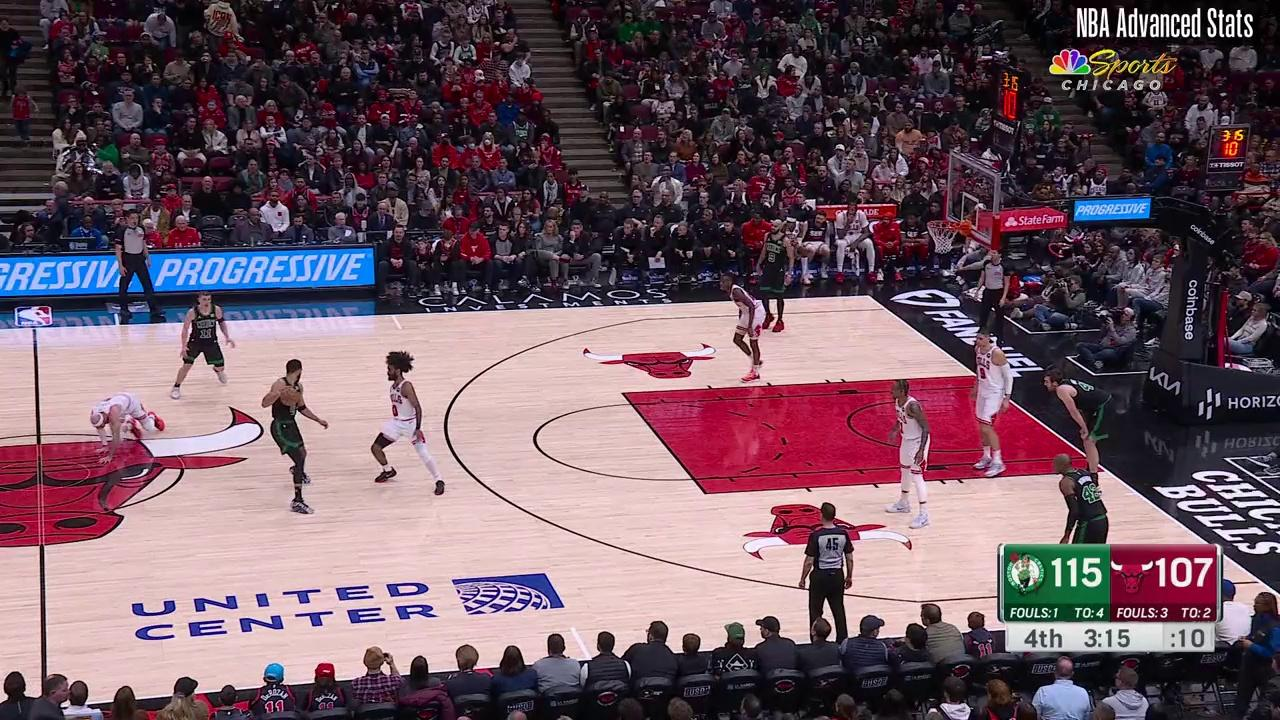3_dx: (1249, 570, 1271, 590)
3_sx: (880, 305, 891, 313)
b_sx: (865, 293, 872, 301)
free_adx: (700, 488, 710, 498)
free_asx: (618, 389, 628, 398)
free_bdx: (1102, 467, 1111, 476)
free_bsx: (972, 371, 979, 379)
half_sx: (26, 320, 42, 337)
mid_dx: (567, 622, 577, 632)
mid_sx: (394, 325, 404, 333)
referee: (798, 501, 856, 638), (115, 210, 168, 326), (976, 249, 1009, 340)
team: (262, 359, 328, 513), (1044, 362, 1115, 484), (171, 293, 237, 398), (1048, 452, 1114, 544), (753, 218, 792, 330)
team1: (371, 351, 445, 496), (887, 376, 931, 530), (971, 329, 1015, 476), (716, 274, 766, 385), (88, 392, 166, 463)
timer: (1079, 623, 1136, 653)
